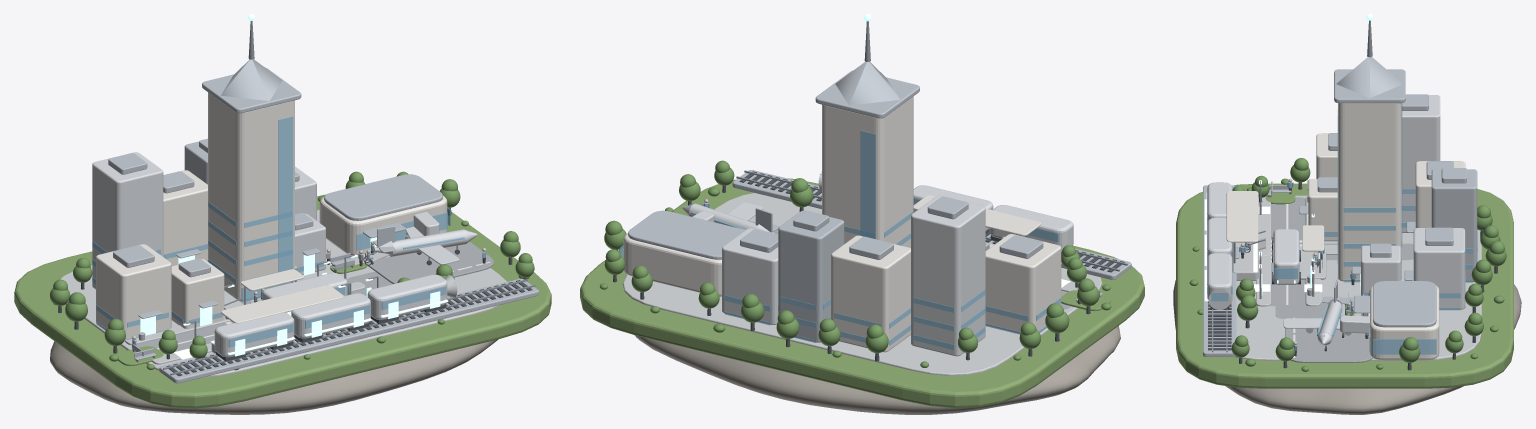
Rendered from smart_city_diorama_draco.glb.
3 views of the same model, side by side, from view 1: azimuth 30°, elevation 25°; view 2: azimuth 150°, elevation 25°; view 3: azimuth 270°, elevation 25° (orthographic). The views are drawn at different scales.
Visible parts, largest first — view 1: Island_Grass_Rim, Landmark_Shaft, Island_Underside, Building_Tower_A_Body, Building_Block_C_Body, Railway_Deck, Island_Paved_Surface, Terminal_Roof_Shell, Building_Block_B_Body, Terminal_Hall, Building_Low_F_Body, Landmark_Ribbon_N (+22 smaller); view 2: Island_Grass_Rim, Landmark_Shaft, Building_Tower_A_Body, Island_Underside, Island_Paved_Surface, Building_Block_B_Body, Building_Slab_D_Body, Building_Block_C_Body, Building_Court_E_Body, Terminal_Roof_Shell, Terminal_Hall, Landmark_Crown_Cone (+15 smaller); view 3: Island_Grass_Rim, Landmark_Shaft, Island_Paved_Surface, Island_Underside, Building_Court_E_Body, Building_Tower_A_Body, Building_Slab_D_Body, Terminal_Roof_Shell, Apron_Surface, Terminal_Hall, Road_Main_EW, Platform_Canopy (+28 smaller).
Boxes of the visible parts, box(x1,y1,x2,y2) form: Island_Grass_Rim: box(14, 194, 551, 408); Landmark_Shaft: box(208, 92, 294, 301); Island_Underside: box(50, 339, 498, 414); Building_Tower_A_Body: box(92, 152, 163, 289); Building_Block_C_Body: box(96, 244, 171, 341); Railway_Deck: box(159, 278, 538, 383); Island_Paved_Surface: box(60, 209, 506, 377); Terminal_Roof_Shell: box(324, 174, 442, 220); Building_Block_B_Body: box(163, 170, 207, 265); Terminal_Hall: box(319, 195, 447, 255); Building_Low_F_Body: box(171, 259, 224, 328); Landmark_Ribbon_N: box(278, 116, 293, 271); Island_Grass_Rim: box(580, 178, 1144, 408); Landmark_Shaft: box(822, 96, 913, 247); Building_Tower_A_Body: box(911, 195, 985, 356); Island_Underside: box(634, 326, 1120, 414); Island_Paved_Surface: box(622, 193, 1102, 375); Building_Block_B_Body: box(831, 235, 910, 352); Building_Slab_D_Body: box(778, 210, 844, 342); Building_Block_C_Body: box(985, 234, 1061, 333); Building_Court_E_Body: box(722, 228, 778, 324); Terminal_Roof_Shell: box(628, 210, 745, 259); Terminal_Hall: box(623, 233, 721, 296); Landmark_Crown_Cone: box(835, 61, 899, 105); Island_Grass_Rim: box(1176, 183, 1513, 388); Landmark_Shaft: box(1338, 103, 1401, 281); Island_Paved_Surface: box(1235, 195, 1481, 360); Island_Underside: box(1173, 280, 1521, 414); Building_Court_E_Body: box(1413, 228, 1465, 309); Building_Tower_A_Body: box(1402, 95, 1440, 232); Building_Slab_D_Body: box(1431, 169, 1477, 281); Terminal_Roof_Shell: box(1373, 281, 1436, 327); Apron_Surface: box(1285, 315, 1372, 362); Terminal_Hall: box(1370, 285, 1439, 360); Road_Main_EW: box(1270, 197, 1305, 306); Platform_Canopy: box(1226, 191, 1258, 242).
Size of the model in its own units: 48.42 by 36.89 by 35.03.
